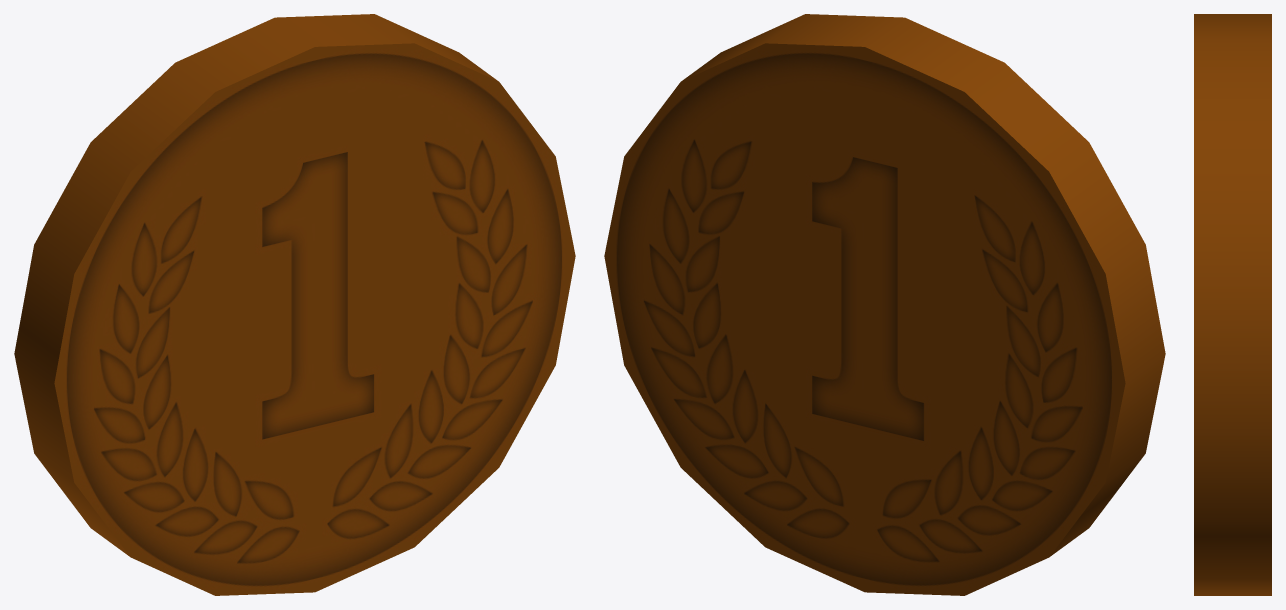
File: CoinCooper.FBX
3 renders of one model, left to right at view 1: azimuth 30°, elevation 25°; view 2: azimuth 150°, elevation 25°; view 3: azimuth 270°, elevation 25°, orthographic. The views are drawn at different scales.
Visible parts, largest first — view 1: CoinCooper; view 2: CoinCooper; view 3: CoinCooper.
Part boxes in pixels (x1,y1,x2,y2): CoinCooper: (14,14,575,595); CoinCooper: (604,14,1165,595); CoinCooper: (1194,14,1271,595).
Size of the model in its own units: 6 by 6 by 0.8.
